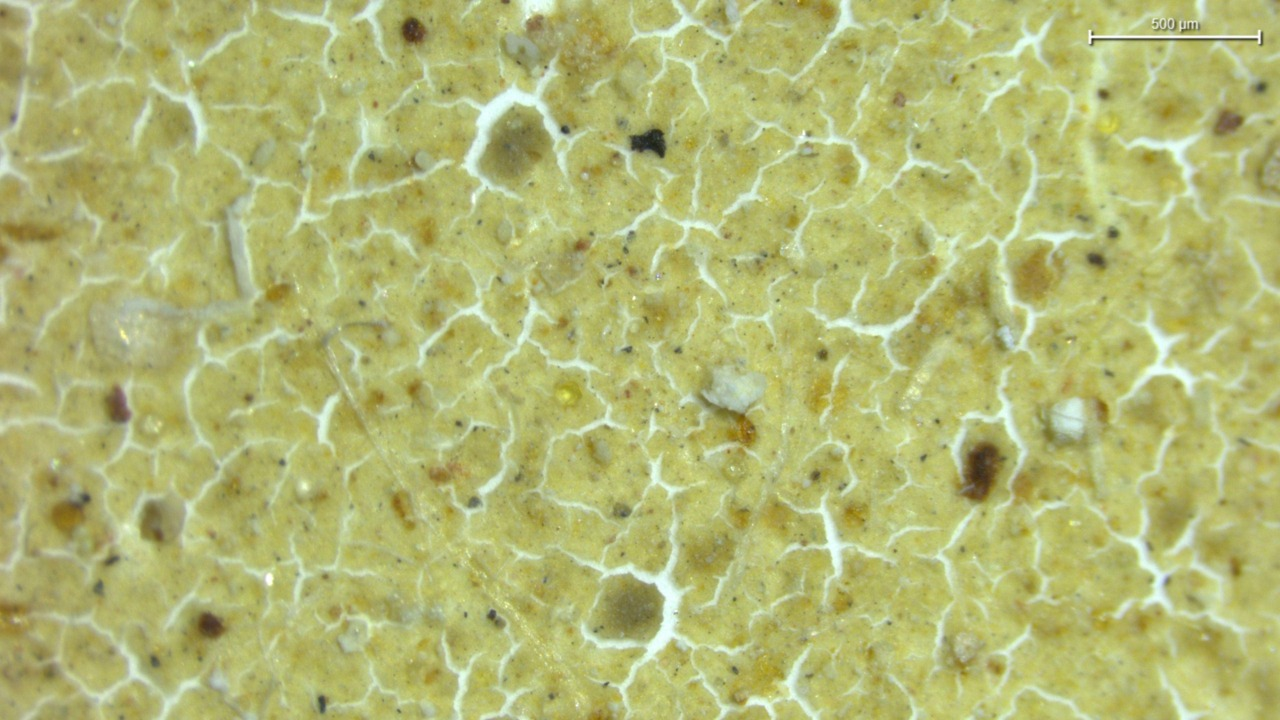microplastic_fragment: (701, 366, 766, 414), (1048, 397, 1086, 443), (504, 33, 540, 67), (951, 632, 984, 665)
